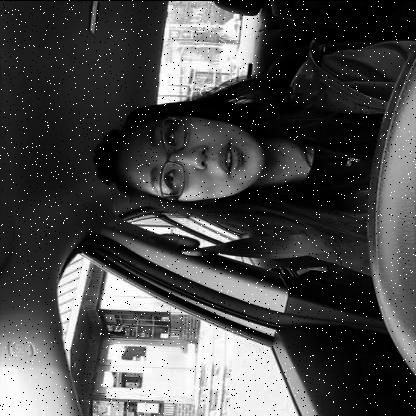seatbelt: (80, 88, 398, 264)
